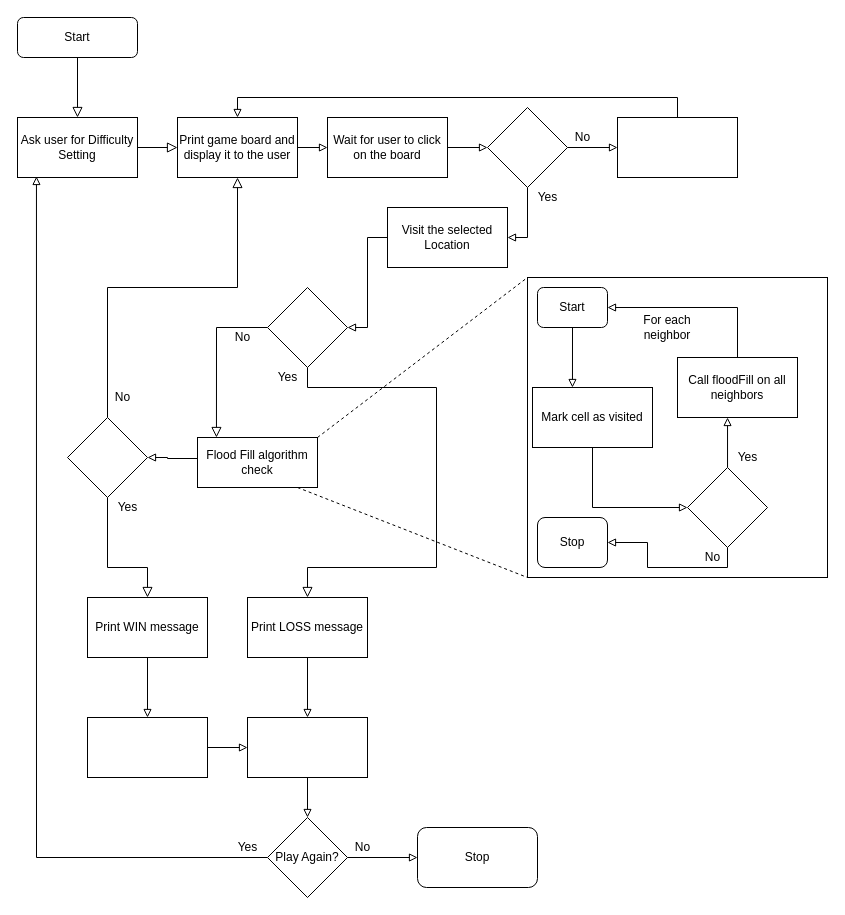
Some shapes in this 845 by 915 pixel diagram are drawn without their labels. Here are the shapes that lost their labels. From the top down, the centre of each, then its label:
At point (527, 147): "Was it a left click".
At point (677, 147): "Flag the location".
At point (307, 327): "Was it a Mine".
At point (107, 457): "Is the board empty".
At point (727, 507): "Zero neighbors".
At point (147, 747): "Ask for users Initials".
At point (307, 747): "Display High Scores List".
